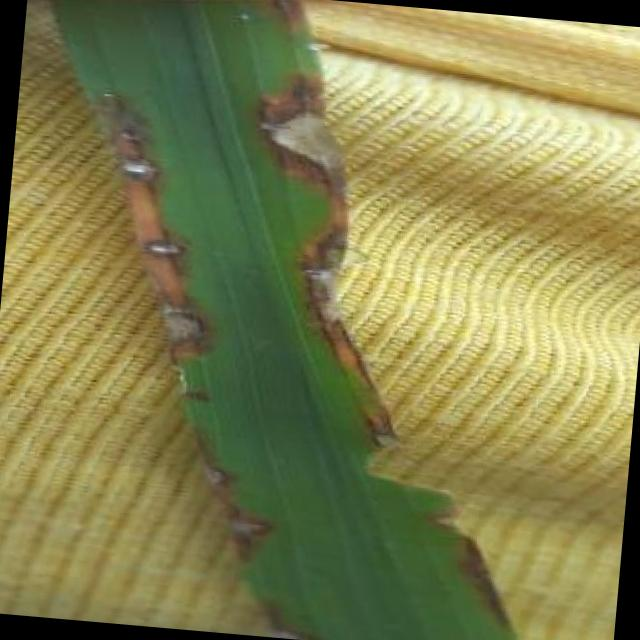Rice_Blast: (242, 59, 348, 189), (278, 204, 368, 340), (76, 89, 166, 199), (142, 278, 225, 382), (212, 492, 277, 558), (141, 208, 201, 273), (358, 398, 415, 449), (197, 447, 234, 488)
